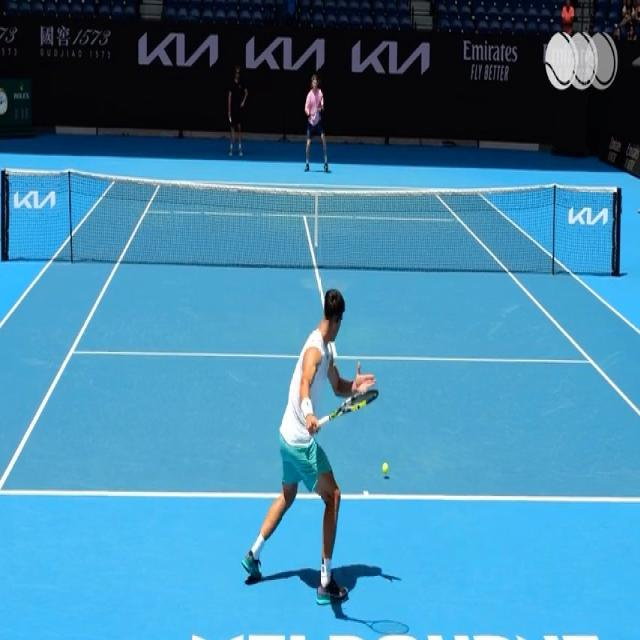forehand-ready: (243, 288, 380, 608)
